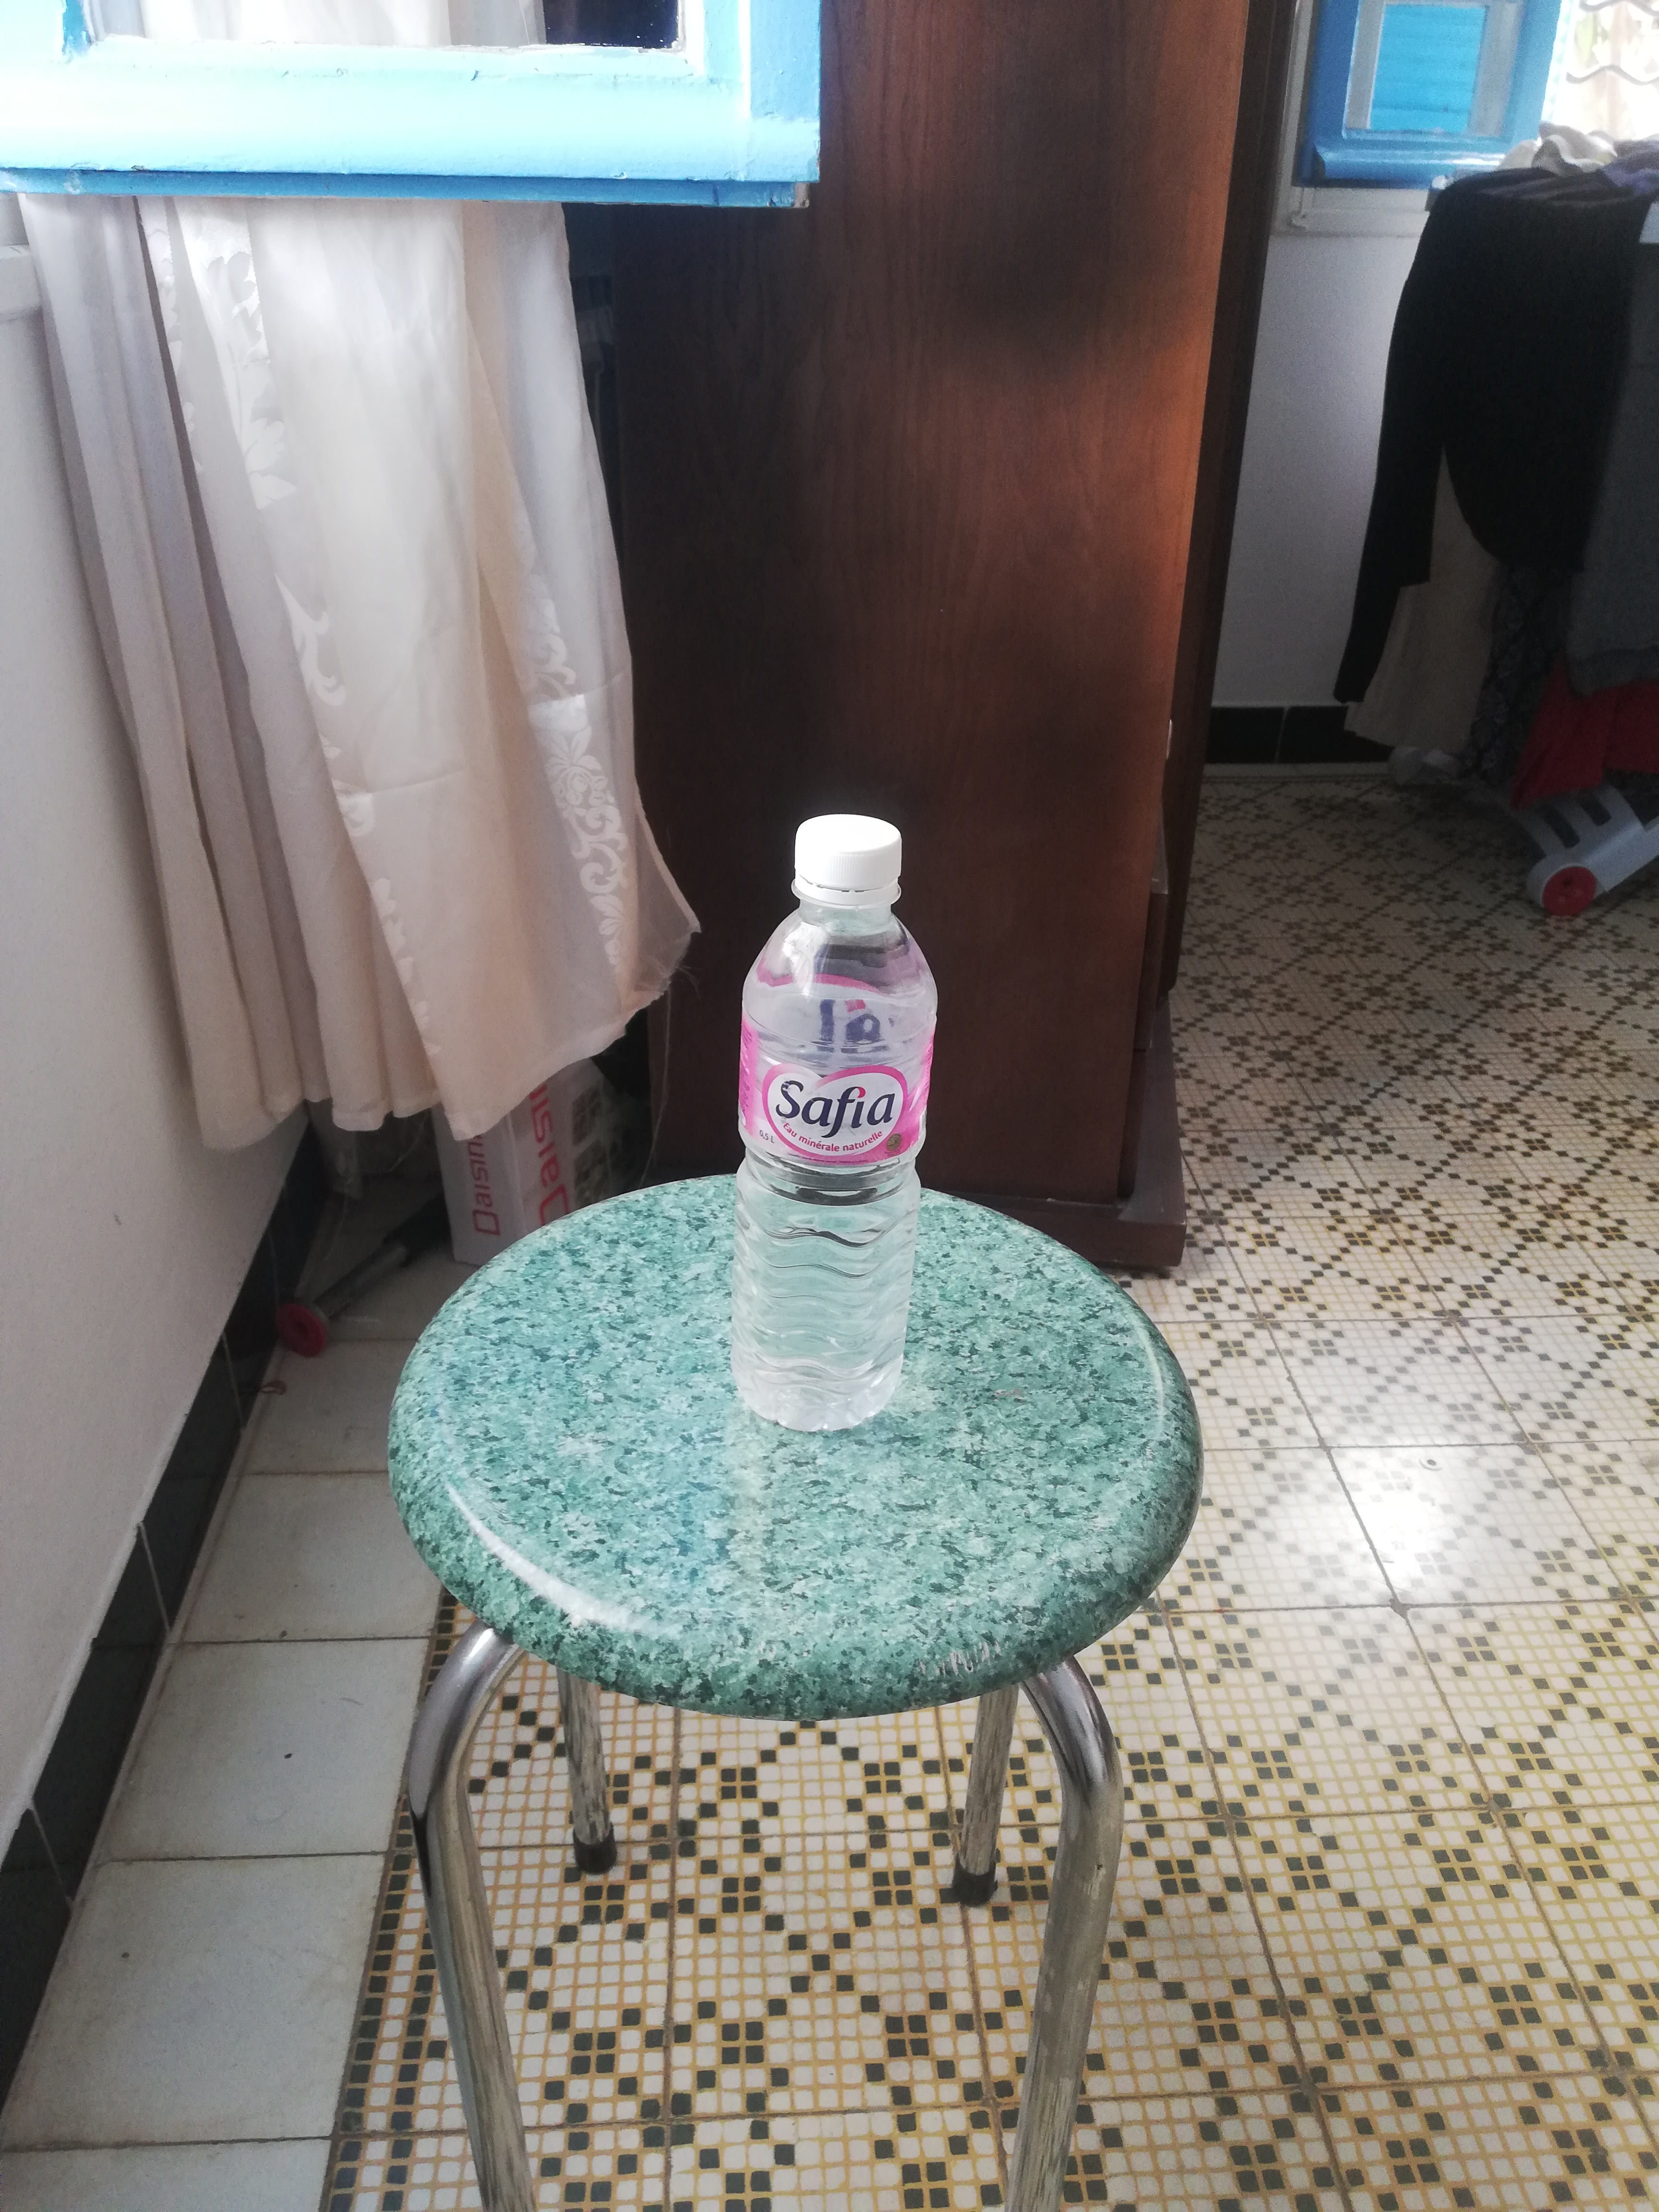Eau safia: (727, 817, 939, 1428)
